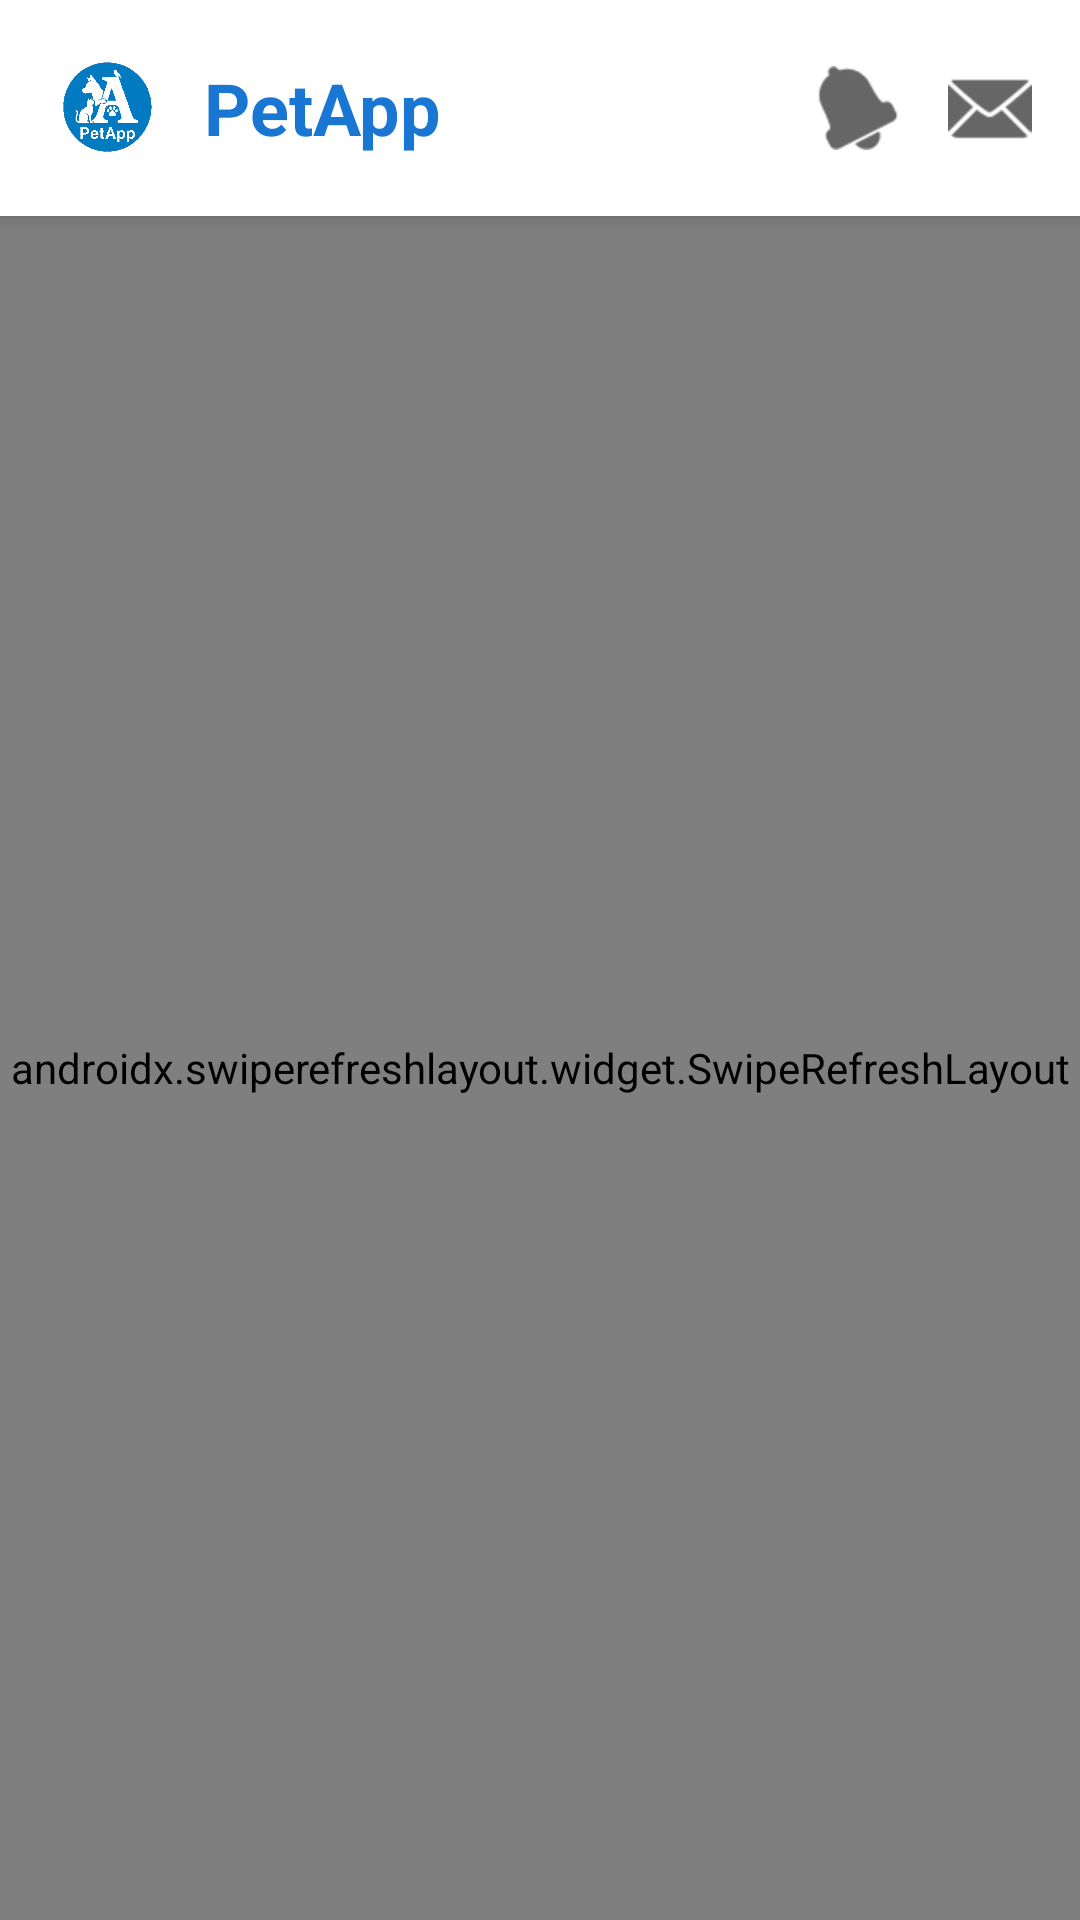

Where to tap for icons on this 1080×1920 app screen, as (x,y):
email: (990,109)
popup reminder: (858,108)
